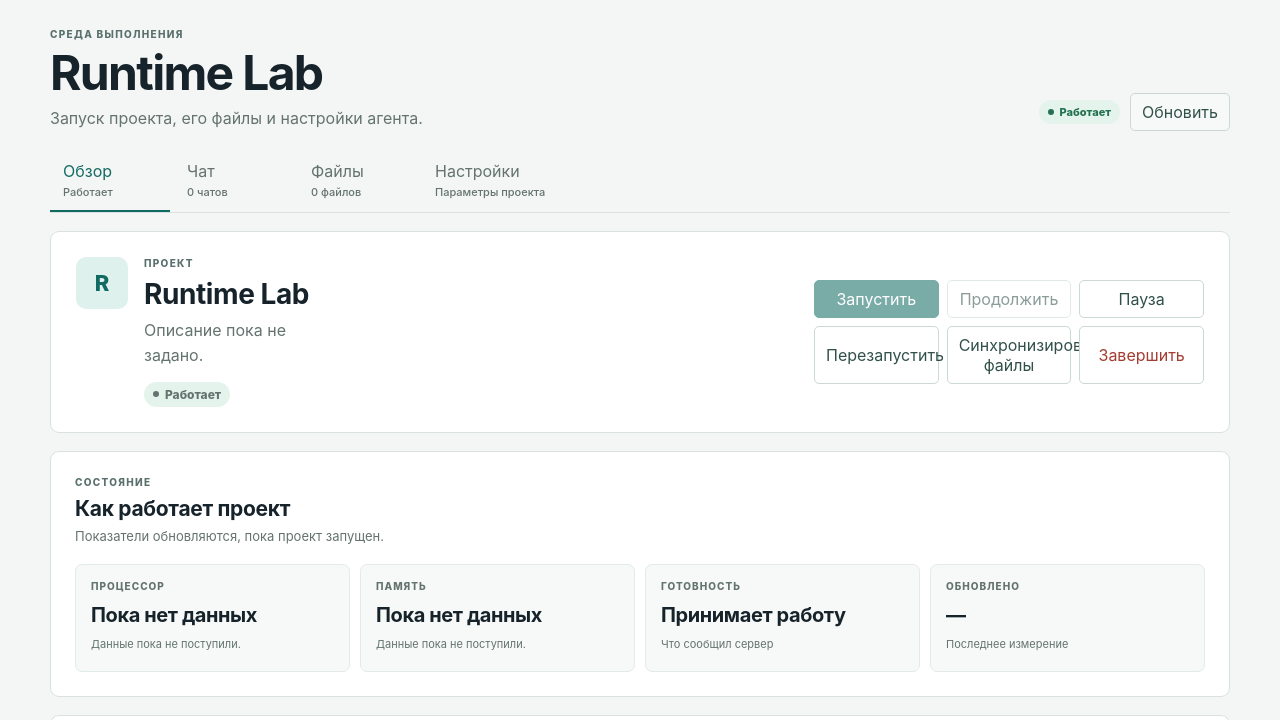
Scenario: ProjectRuntime component workflow › keeps the last readback visible on refresh error and clears it after recovery
The image size is (1280, 720).
Click the button "Обновить" at (1180, 112), box [1130,93,1230,131]
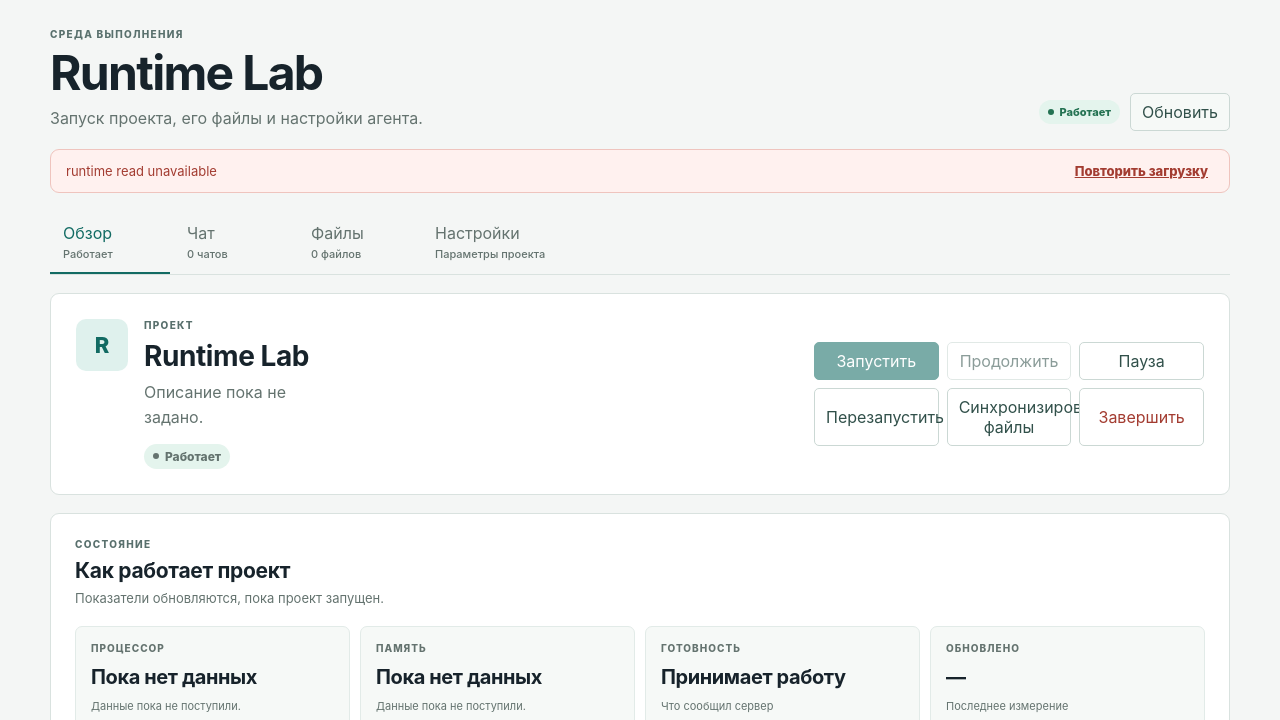
Expected: the text "Runtime Lab" is shown, [50,43,322,102]
Now the text "runtime read unavailable" is shown, box [66,163,217,179]
Click the button "Повторить загрузку" at (1141, 171), box [1069,162,1214,180]
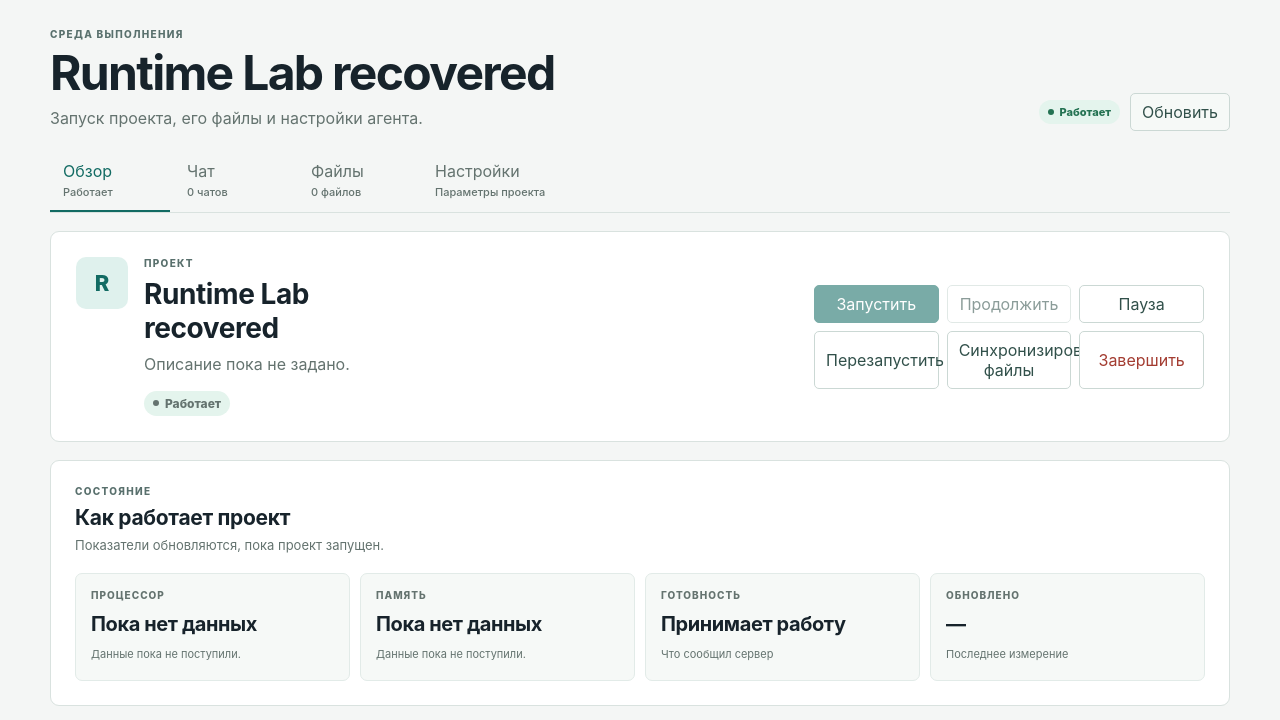
Now the text "Runtime Lab recovered" is shown, box [50,48,554,98]
Now the text "runtime read unavailable" is gone
